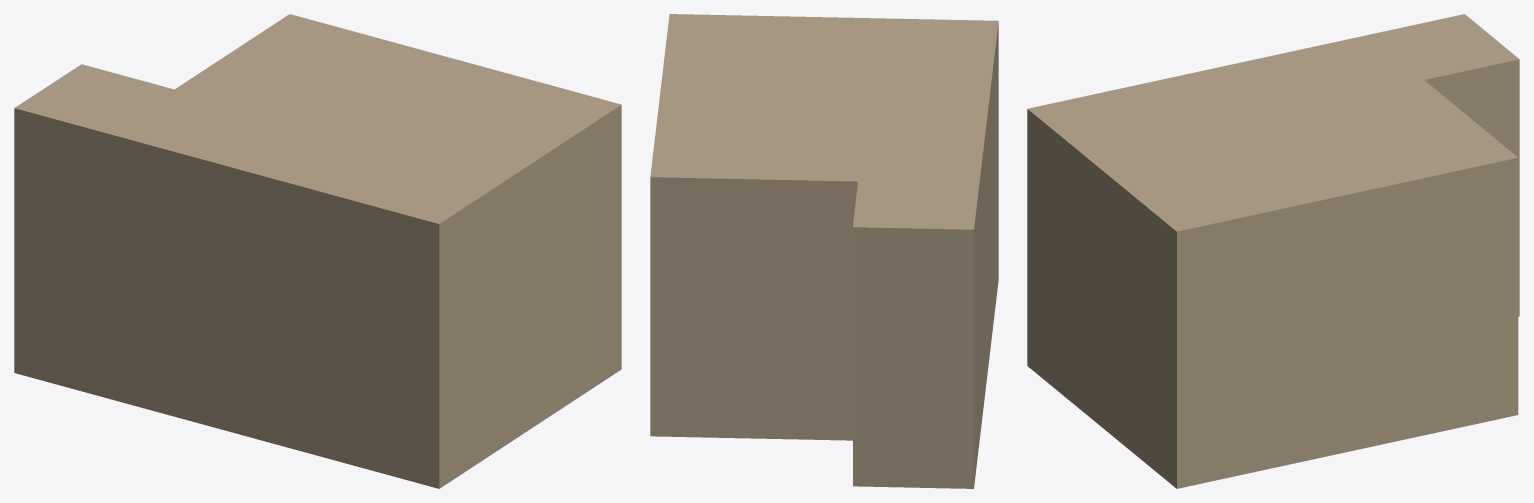
Rendered from bld_106456223.dae.
3 renders of one model, left to right at view 1: azimuth 30°, elevation 25°; view 2: azimuth 150°, elevation 25°; view 3: azimuth 270°, elevation 25°, orthographic. The views are drawn at different scales.
Visible parts, largest first — view 1: bld_106456223; view 2: bld_106456223; view 3: bld_106456223.
Boxes of the visible parts, x1,y1,x2,y2 form: bld_106456223: (14, 14, 621, 488); bld_106456223: (650, 14, 998, 488); bld_106456223: (1027, 14, 1519, 488).
Size of the model in its own units: 14.52 by 13.87 by 8.
